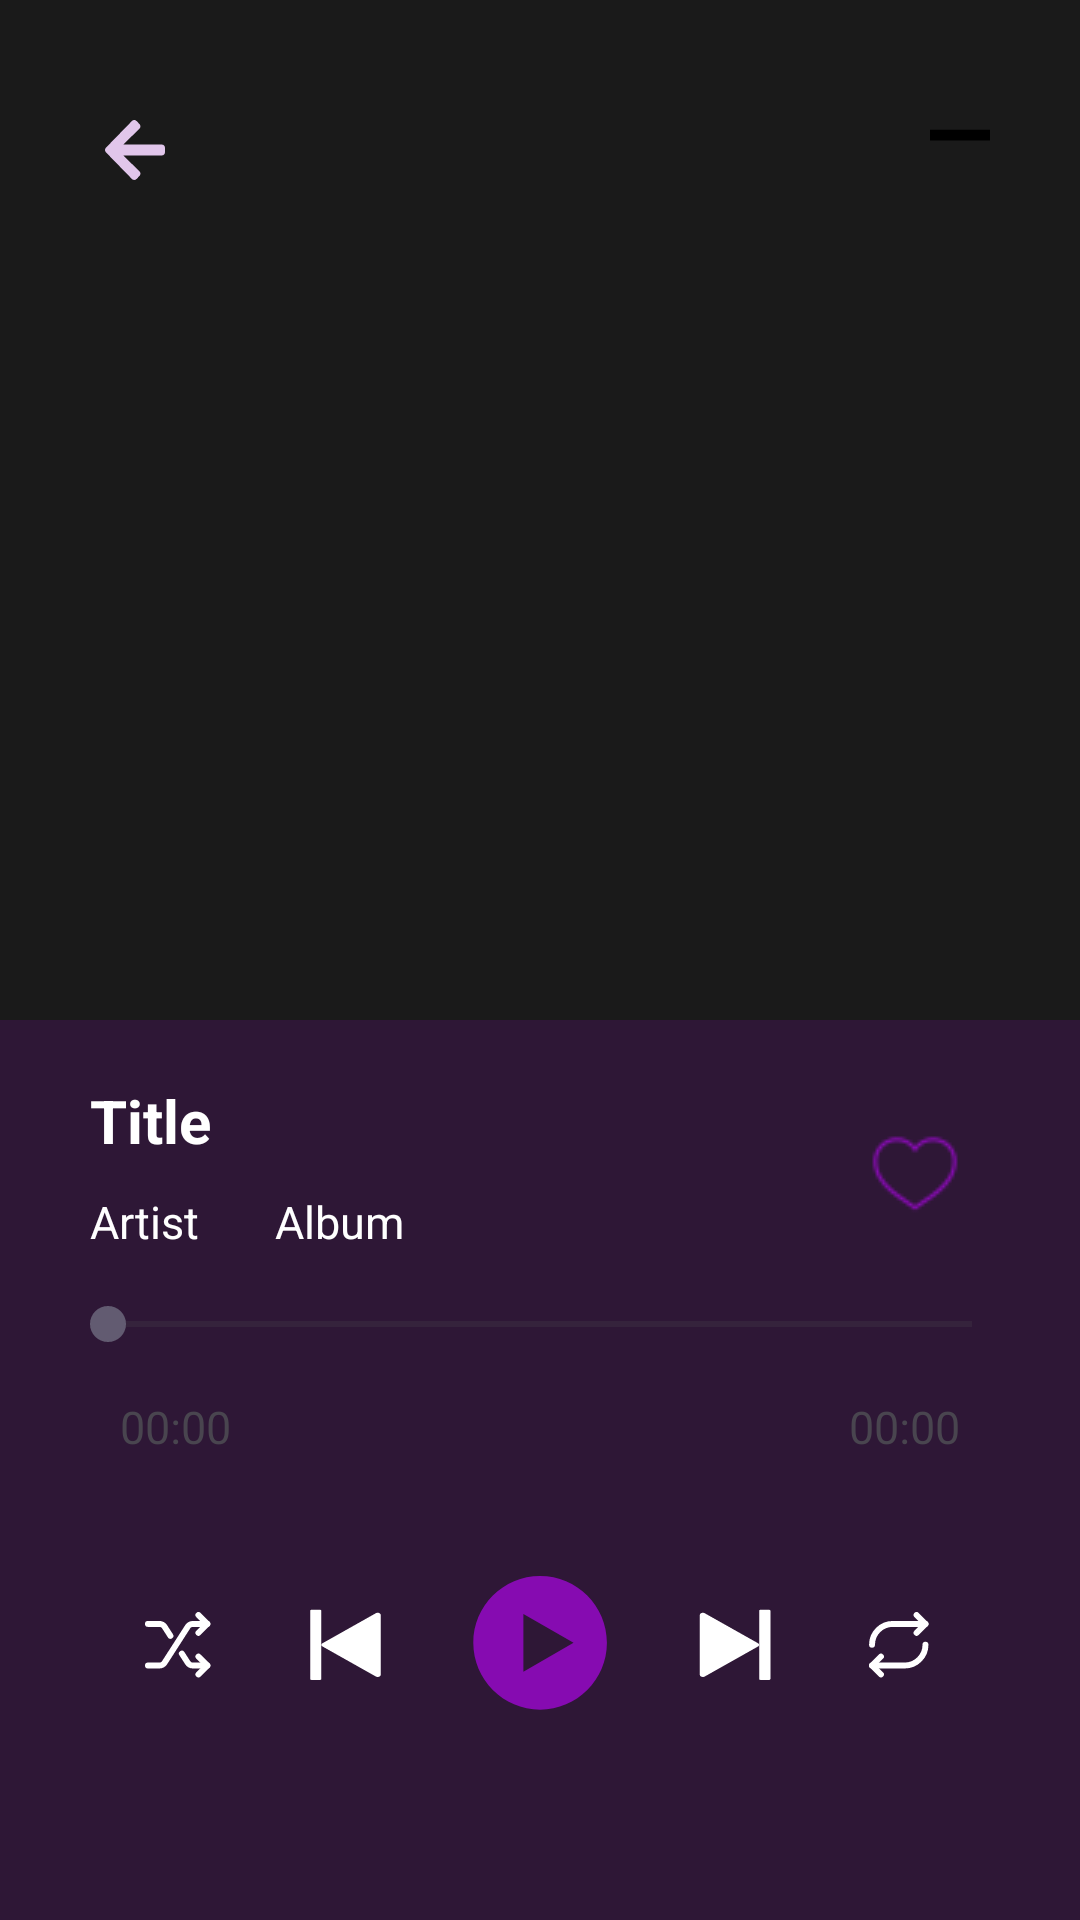

Icons on this 1080w x 1920h Android screen, each with the point to tap as [x,y]:
favorite heart: [915,1173]
play track: [540,1643]
point leftarrow: [135,150]
previous track: [345,1644]
repeat track: [899,1645]
shuffle off: [178,1645]
skip track: [735,1644]
